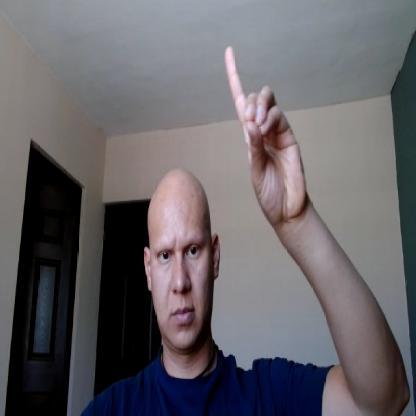D: (226, 47, 305, 224)
